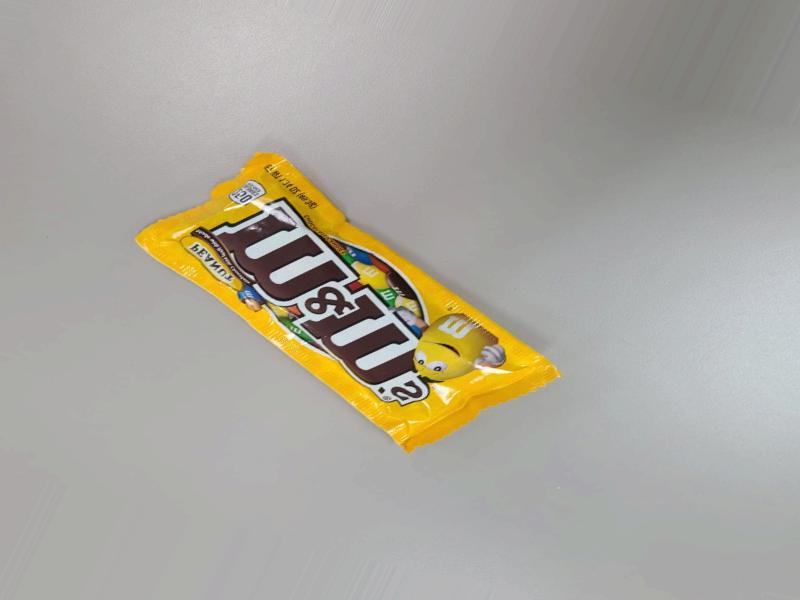m&m: (151, 140, 547, 445)
